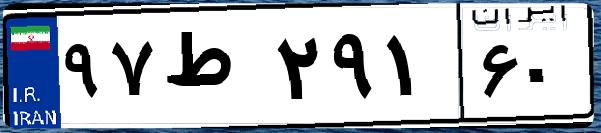0: (525, 38, 570, 115)
1: (385, 28, 445, 110)
2: (270, 28, 330, 110)
6: (475, 38, 525, 113)
7: (110, 28, 158, 98)
9: (330, 28, 385, 110), (57, 26, 110, 100)
ط: (158, 20, 270, 120)
